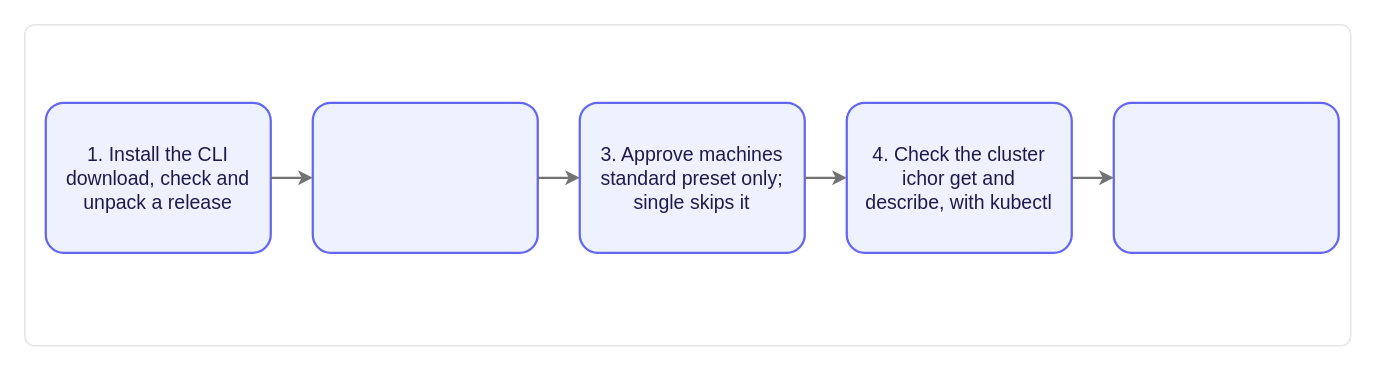
Image size: 1376x371. Some labels were removed from this diagram. Here are the shapes that lost their labels. From the top down, the centre of each, then its label:
the point at 424,177: 2. Create the cluster ichor init, one node or a standard preset
the point at 1225,177: 5. Open the UI and sign in
